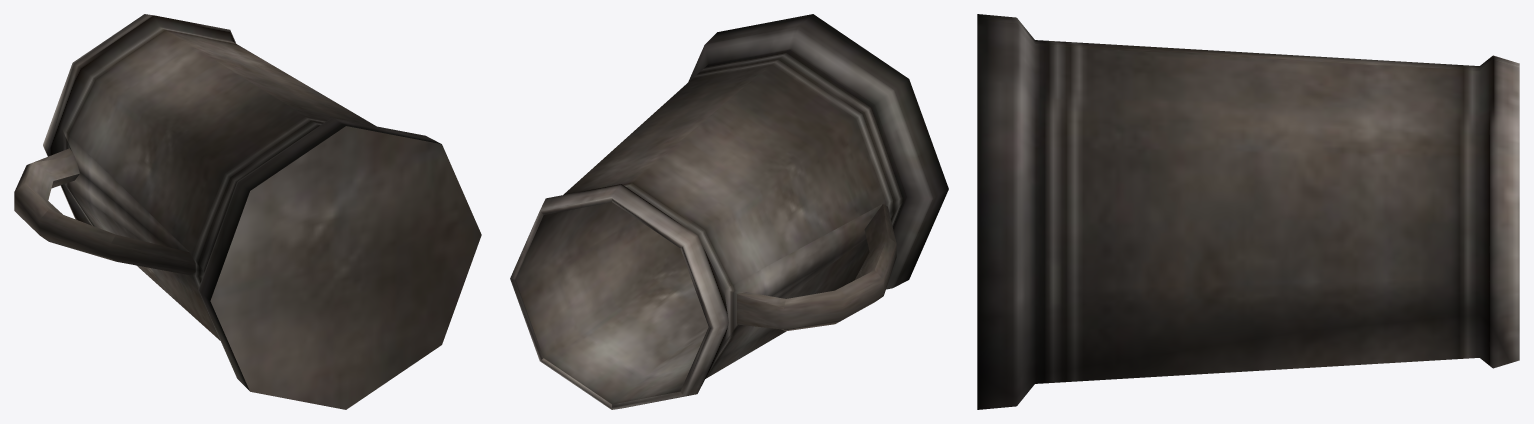
File: mug_high.fbx
3 renders of one model, left to right at view 1: azimuth 30°, elevation 25°; view 2: azimuth 150°, elevation 25°; view 3: azimuth 270°, elevation 25°, orthographic. The views are drawn at different scales.
Parts seen in each view (by area): view 1: mug_group; view 2: mug_group; view 3: mug_group.
Boxes of the visible parts, x1=… form: mug_group: x1=14, y1=14, x2=481, y2=409; mug_group: x1=510, y1=14, x2=948, y2=409; mug_group: x1=977, y1=14, x2=1519, y2=409.
Size of the model in its own units: 59.68 by 49.99 by 64.31.
1 material, 1 textured.
